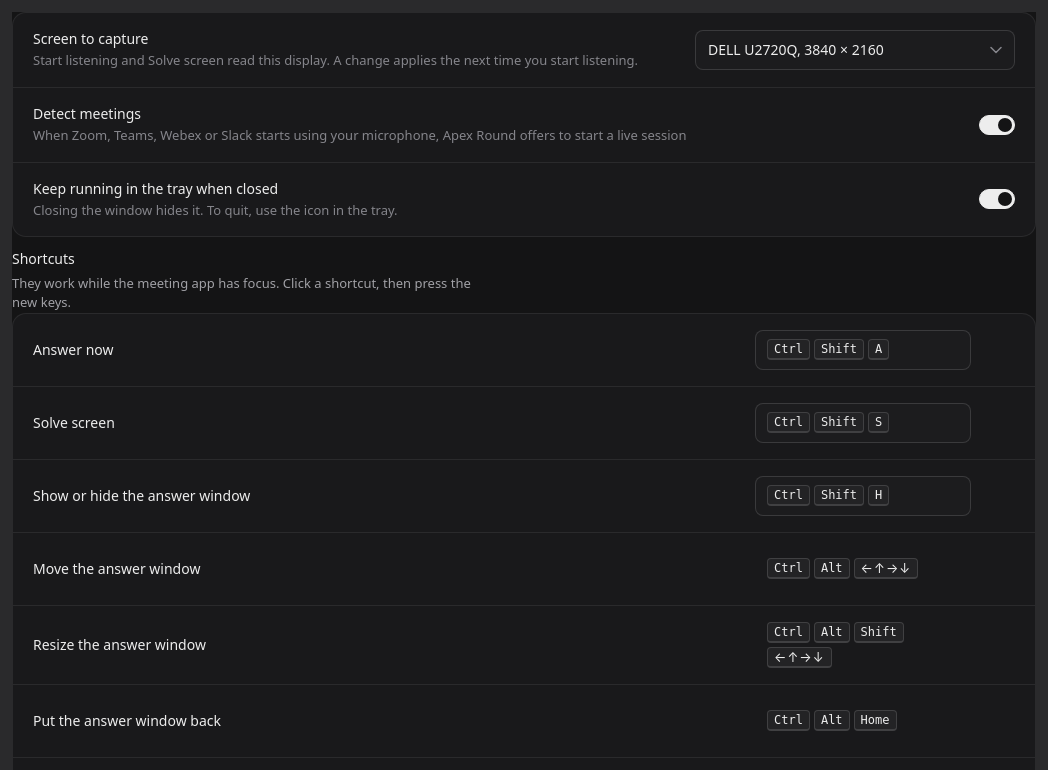
it: DesktopSettings › records a new shortcut from the keyboard, with the app shortcuts paused meanwhile
The image size is (1048, 770).
Click the button with aria-label "Answer now: Ctrl+Shift+A. Change the shortcut" at (863, 350), box [755,330,971,370]
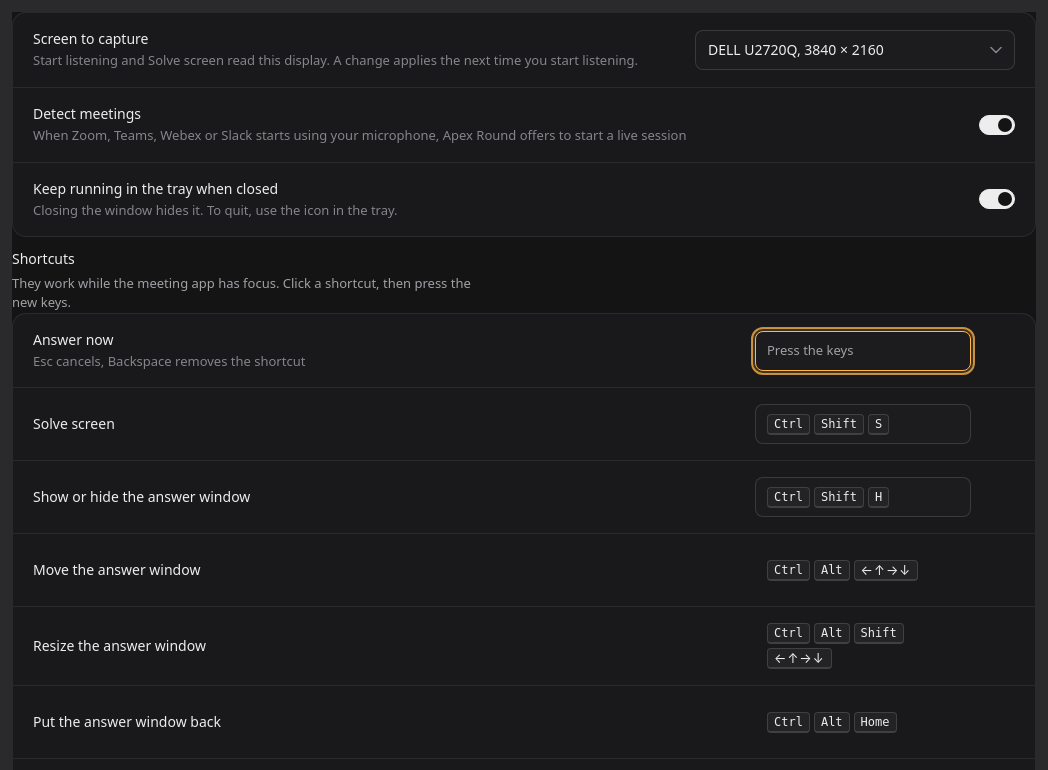
expect the text "Esc cancels, Backspace removes the shortcut" is shown: met, box [33,352,305,370]
Press Control in the button named "Answer now: Ctrl+Shift+A. Change the shortcut", box [755,331,971,371]
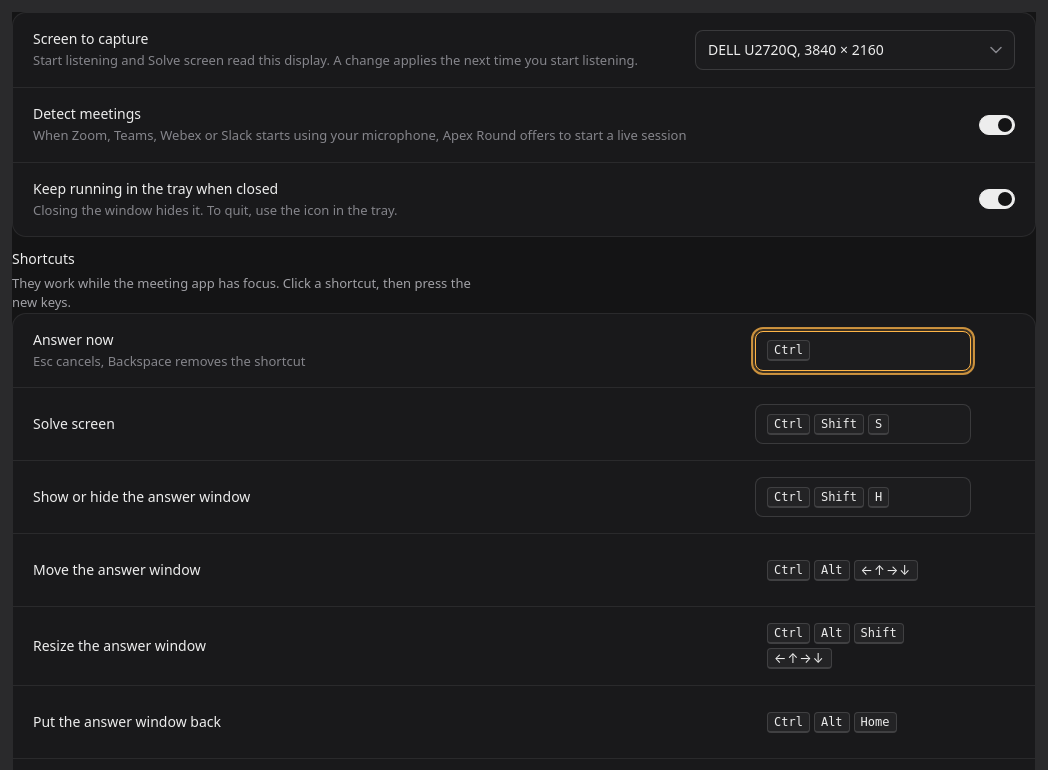
expect the button named "Answer now: Ctrl+Shift+A. Change the shortcut" reads "Ctrl": met
Press j in the button named "Answer now: Ctrl+Shift+A. Change the shortcut", box [755,331,971,371]
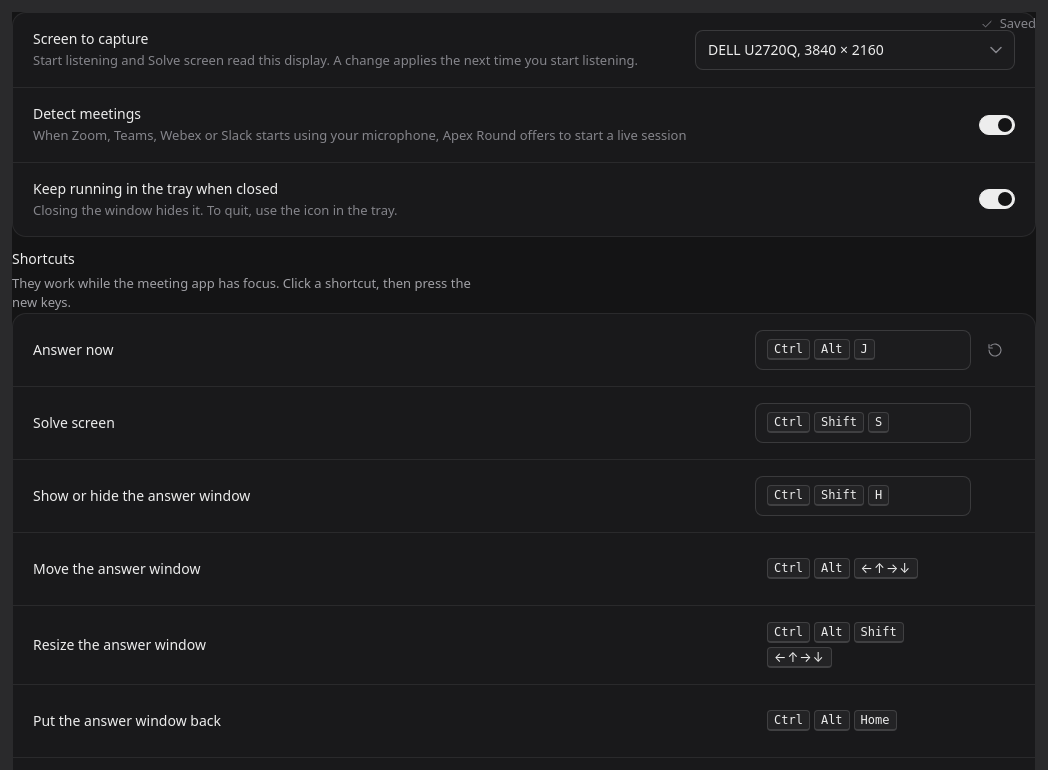
expect the button named "Reset Answer now to Ctrl+Shift+A" is shown: met, box [975,330,1015,370]
